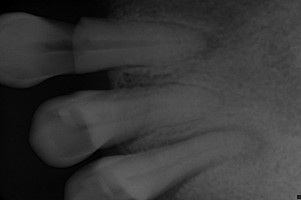Dental Caries: (114, 125, 269, 162), (158, 164, 214, 200)
Furcation Involvement: (196, 29, 224, 62)
